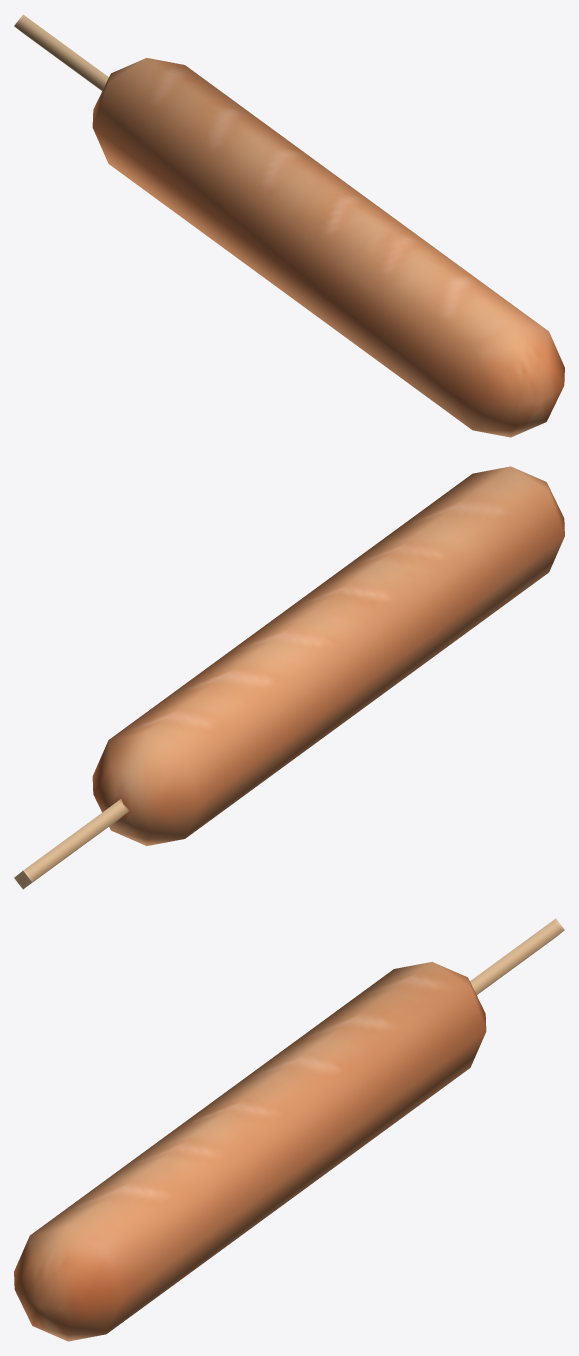
File: jsf_Frankfurt_b01.fbx
The picture shows the model from 3 angles, top to bottom: view 1: azimuth 30°, elevation 25°; view 2: azimuth 150°, elevation 25°; view 3: azimuth 330°, elevation 25°; orthographic projection.
Visible parts, largest first — view 1: jsf_Frankfurt_b01; view 2: jsf_Frankfurt_b01; view 3: jsf_Frankfurt_b01.
Part boxes in pixels (x1,y1,x2,y2): jsf_Frankfurt_b01: (14, 14, 564, 437); jsf_Frankfurt_b01: (14, 466, 564, 889); jsf_Frankfurt_b01: (14, 918, 564, 1341).
Bounding box in the file's own units: 3.42 × 3.42 × 28.25.
